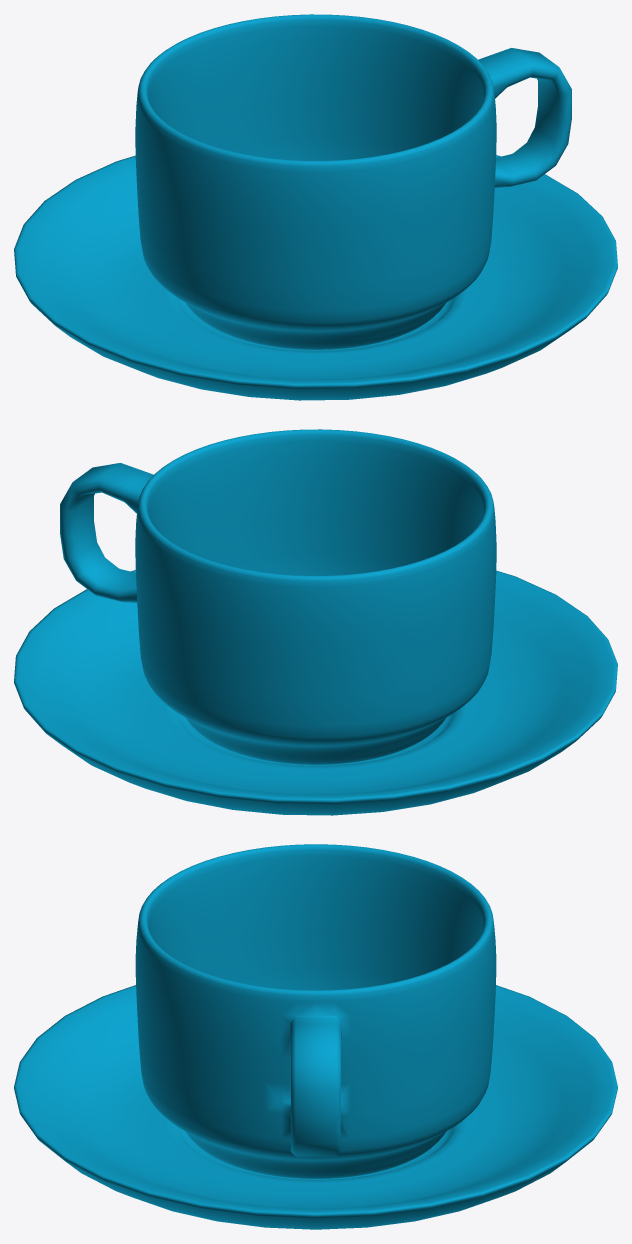
Rendered from Coffee_cup_withe_.obj.
The picture shows the model from 3 angles, top to bottom: view 1: azimuth 30°, elevation 25°; view 2: azimuth 150°, elevation 25°; view 3: azimuth 270°, elevation 25°; orthographic projection.
Visible parts, largest first — view 1: Coffee_cup_withe_saucer; view 2: Coffee_cup_withe_saucer; view 3: Coffee_cup_withe_saucer.
Part boxes in pixels (x1,y1,x2,y2): Coffee_cup_withe_saucer: [14, 14, 617, 400]; Coffee_cup_withe_saucer: [14, 429, 617, 815]; Coffee_cup_withe_saucer: [14, 844, 617, 1229].
Bounding box in the file's own units: 13.2 × 5.75 × 13.2.
